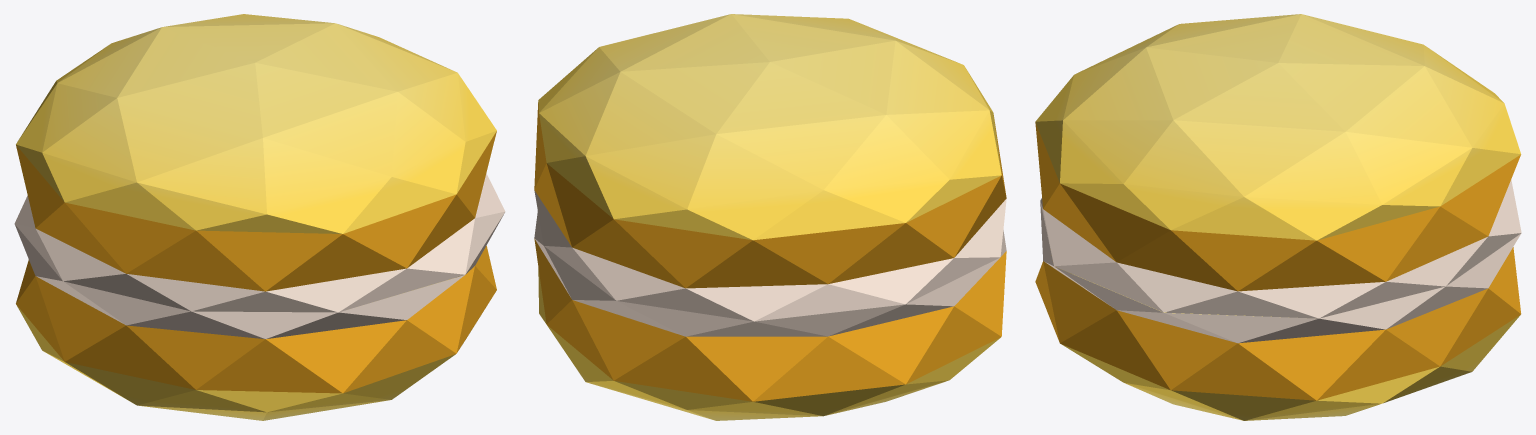
The model's file is macaronB.FBX.
The picture shows the model from 3 angles, left to right: view 1: azimuth 30°, elevation 25°; view 2: azimuth 150°, elevation 25°; view 3: azimuth 270°, elevation 25°; orthographic projection.
Parts seen in each view (by area): view 1: macaronB; view 2: macaronB; view 3: macaronB.
Part boxes in pixels (x1=…): macaronB: x1=14, y1=14, x2=505, y2=420; macaronB: x1=534, y1=14, x2=1006, y2=420; macaronB: x1=1035, y1=14, x2=1521, y2=420.
Bounding box in the file's own units: 1.5 × 1.05 × 1.5.
